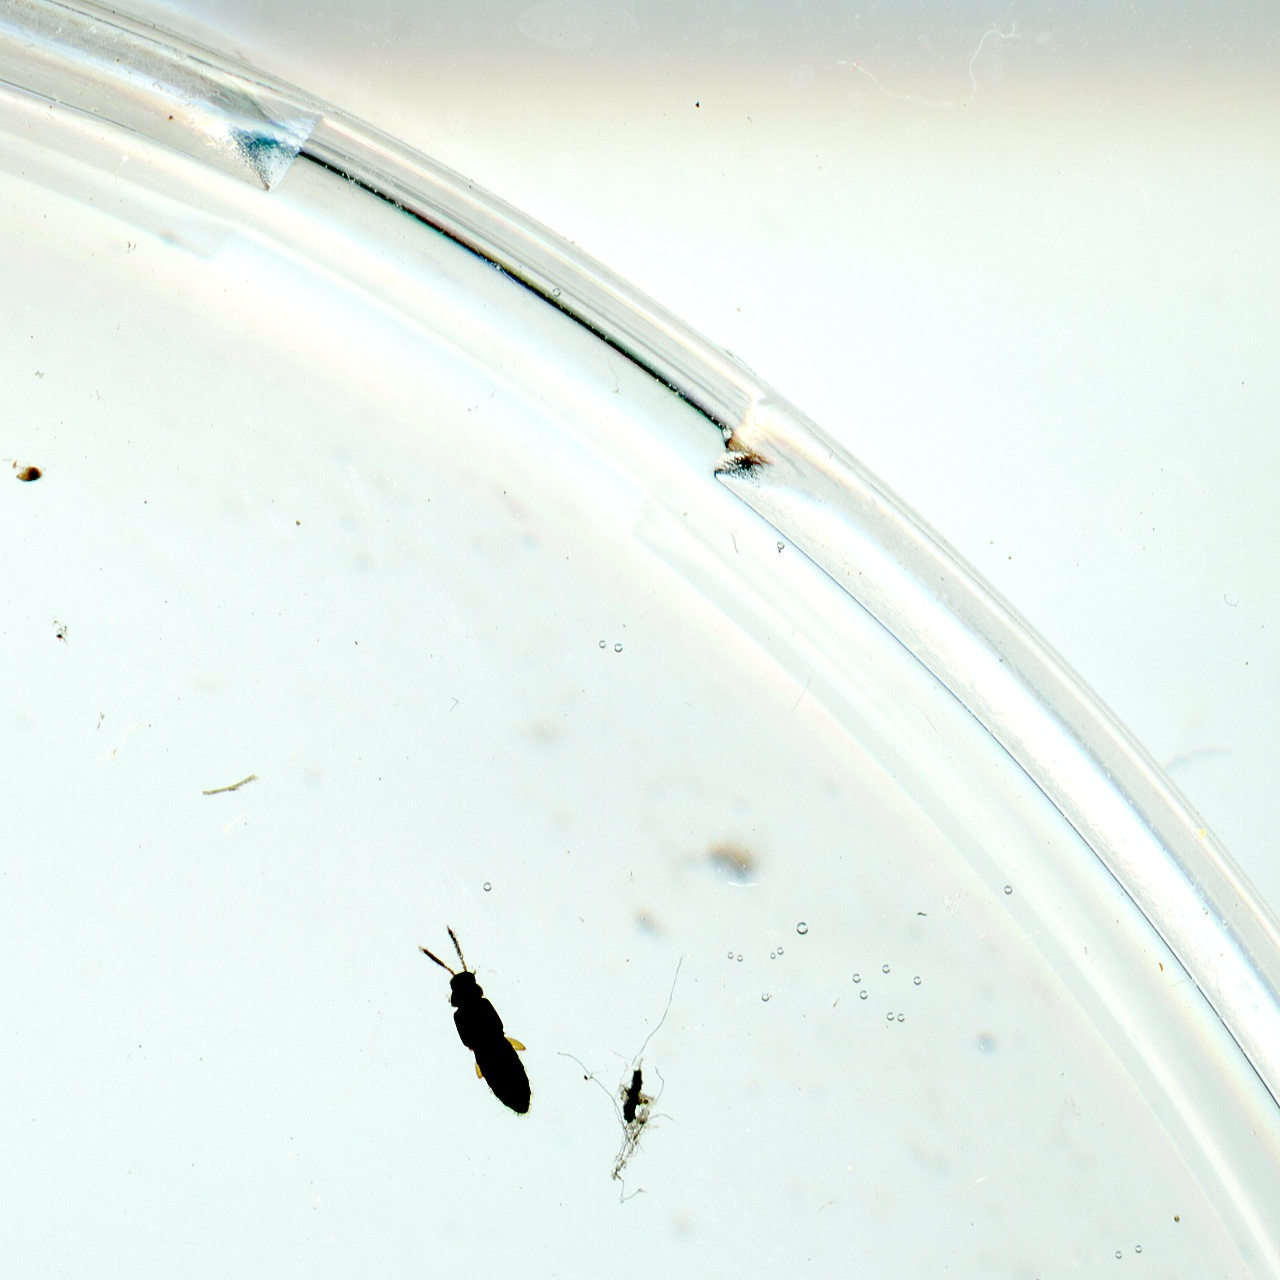arthropod: (394, 902, 564, 1149)
